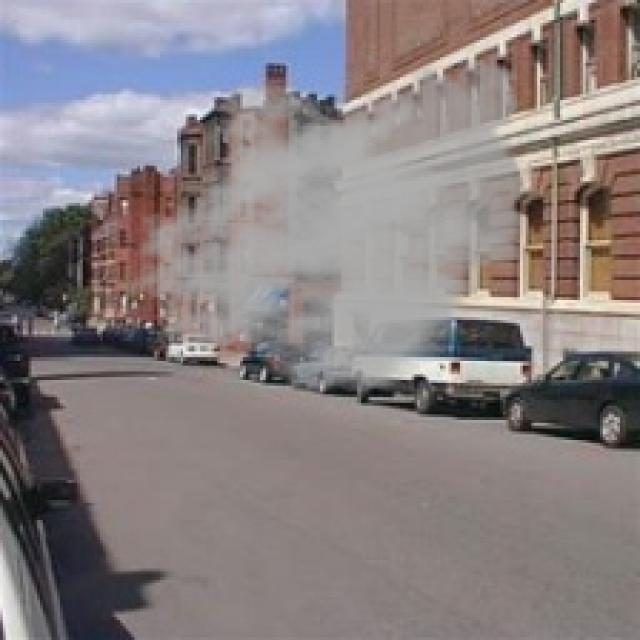Smoke: (123, 42, 543, 394)
